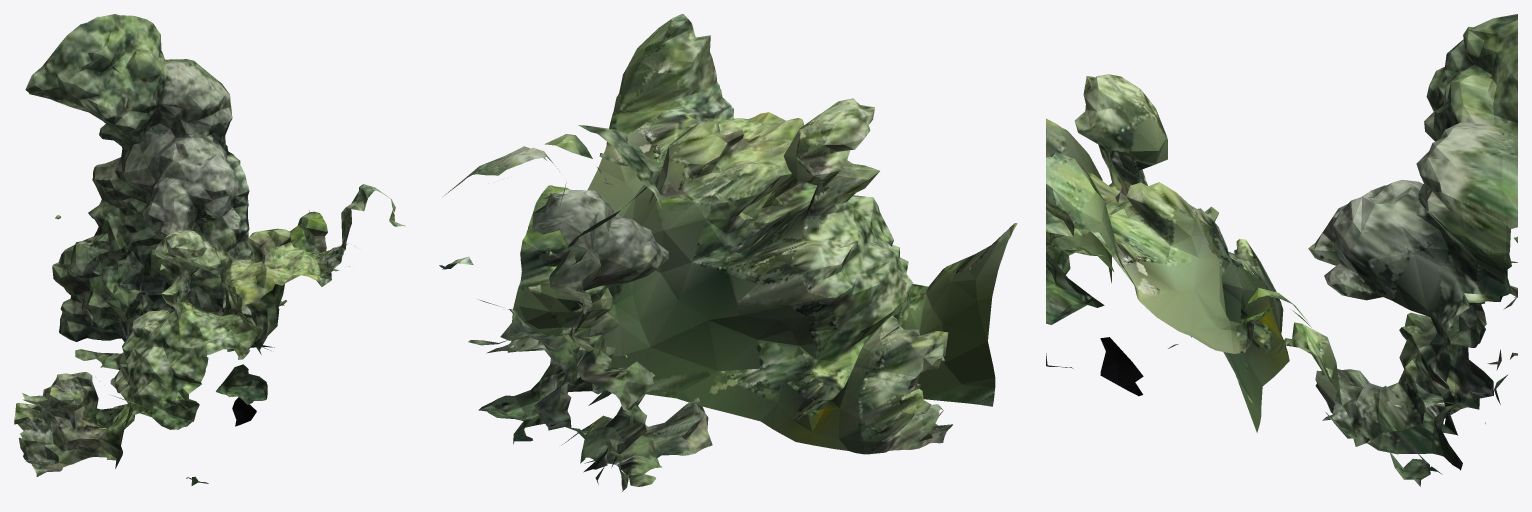
The picture shows the model from 3 angles, left to right: view 1: azimuth 30°, elevation 25°; view 2: azimuth 150°, elevation 25°; view 3: azimuth 270°, elevation 25°; orthographic projection. The views are drawn at different scales.
Size of the model in its own units: 26.11 by 24.59 by 26.11.
Materials: 5 (5 with a texture image).
